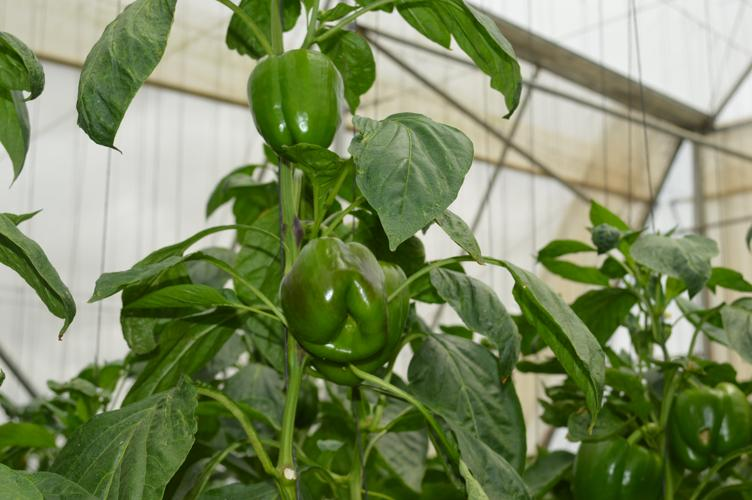BellPepper: (303, 262, 408, 380), (277, 241, 379, 353), (245, 51, 343, 154), (666, 383, 745, 470), (573, 438, 659, 499)
